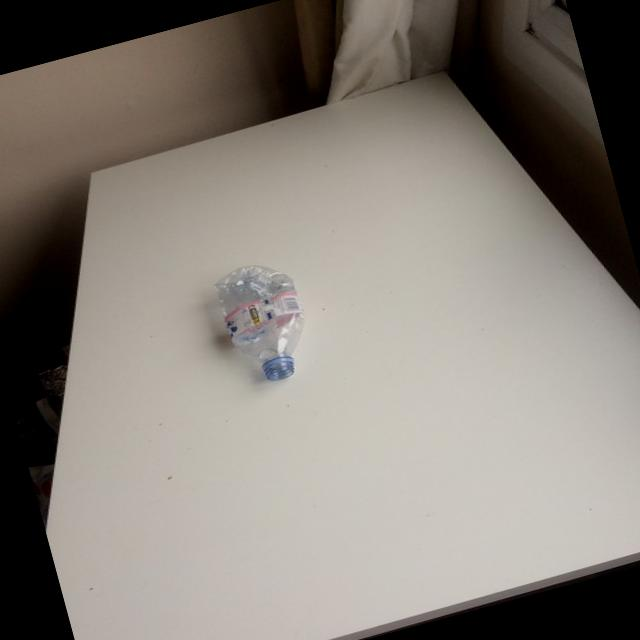Recycle: (210, 252, 320, 390)
